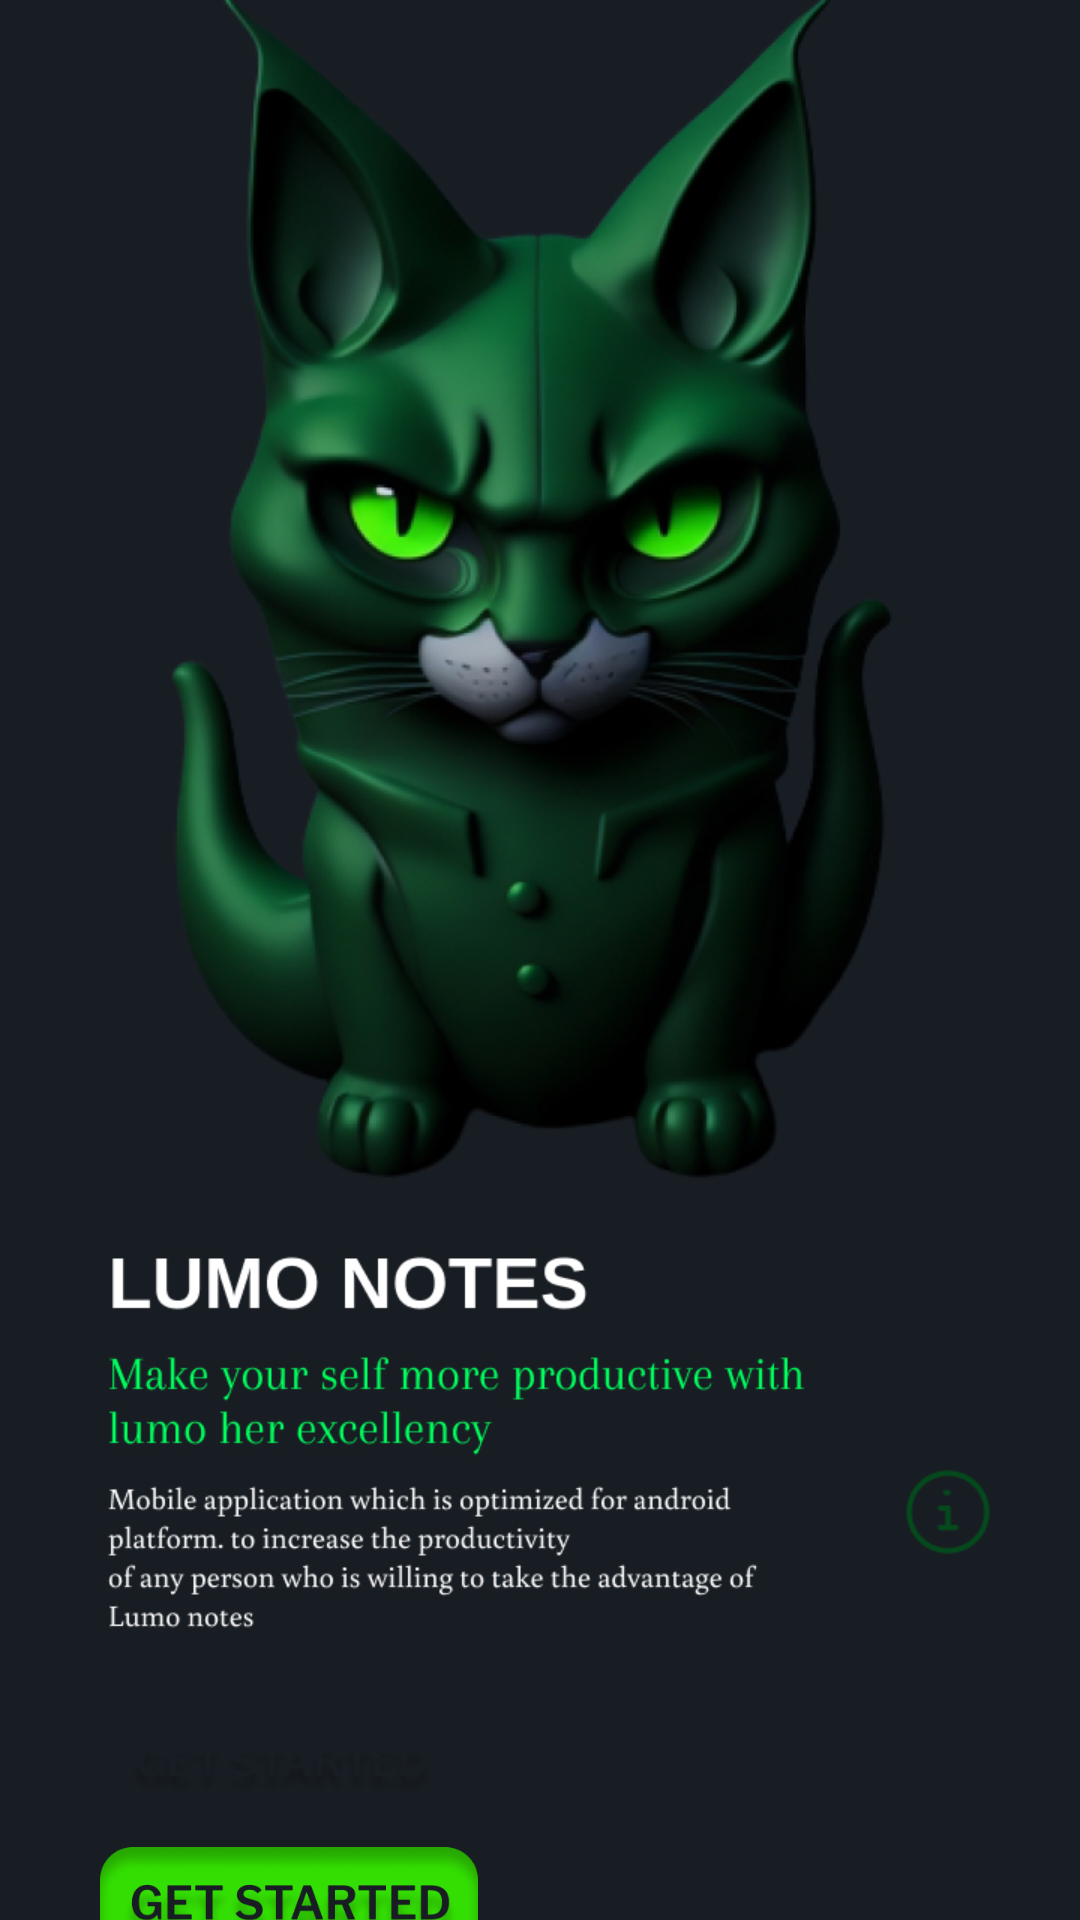

Point at icon controls on the screen. Image size 1080w x 1920h, points as (x,y).
infoicon: (948,1512)
